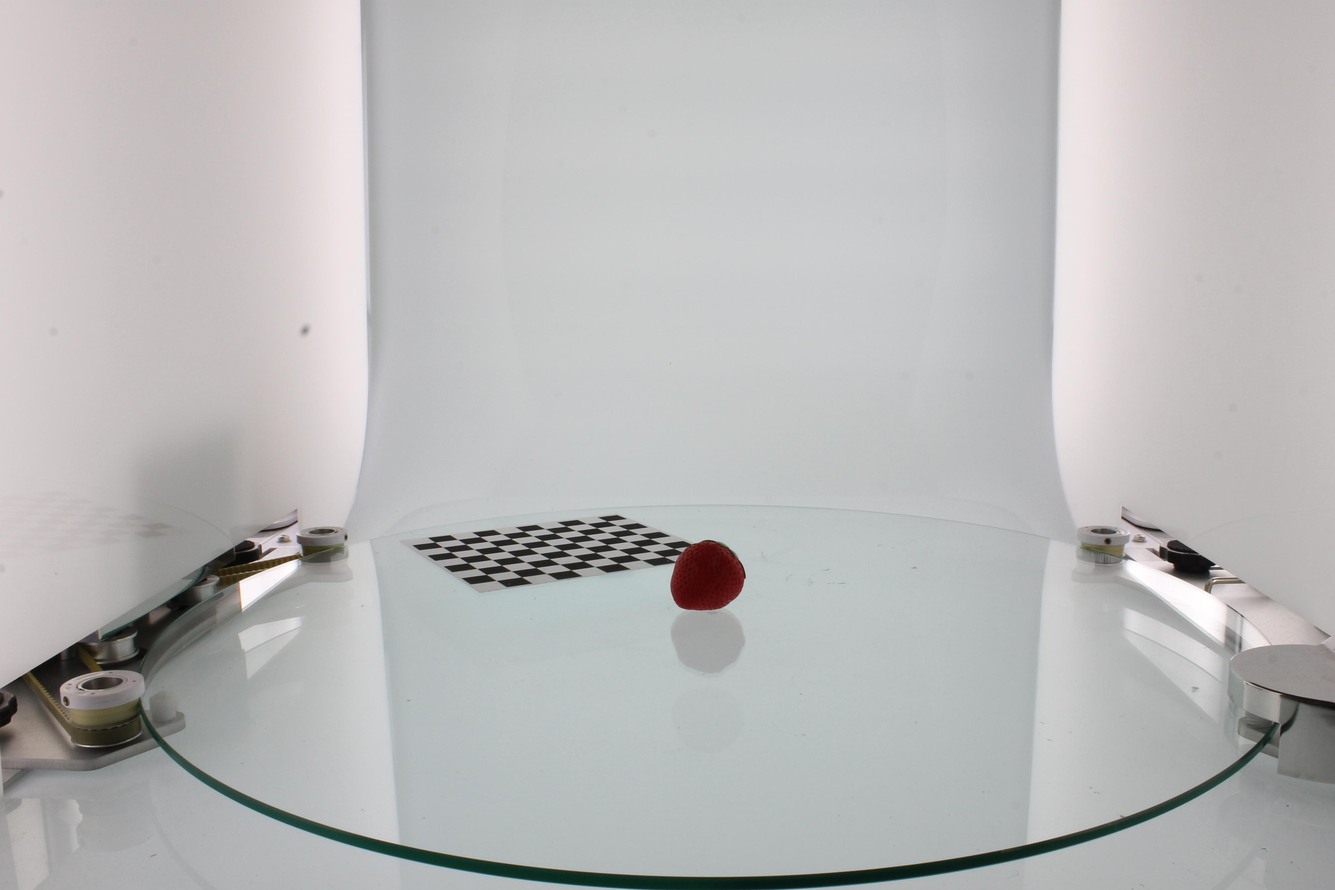strawberry: (148, 613, 168, 638)
